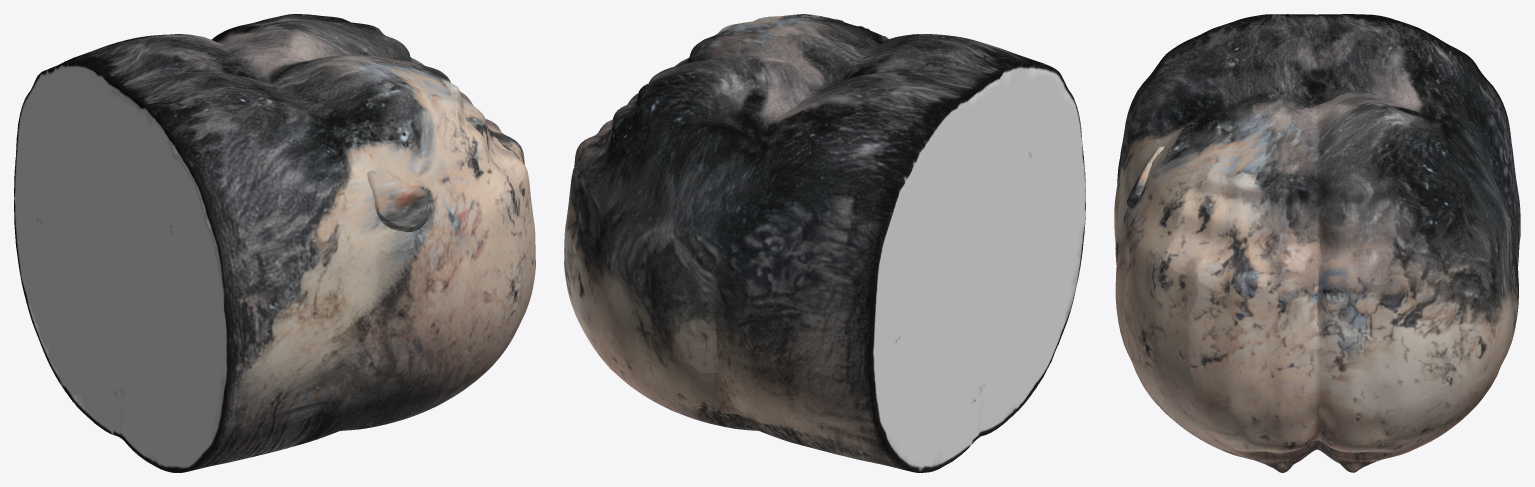
The picture shows the model from 3 angles, left to right: view 1: azimuth 30°, elevation 25°; view 2: azimuth 150°, elevation 25°; view 3: azimuth 270°, elevation 25°; orthographic projection. The views are drawn at different scales.
Visible parts, largest first — view 1: world; view 2: world; view 3: world.
Part boxes in pixels (bbox=[...]): world: bbox=[14, 14, 535, 472]; world: bbox=[564, 14, 1085, 472]; world: bbox=[1114, 14, 1520, 472].
Size of the model in its own units: 0.15 by 0.1414 by 0.1539.
Materials: 1 (1 with a texture image).
